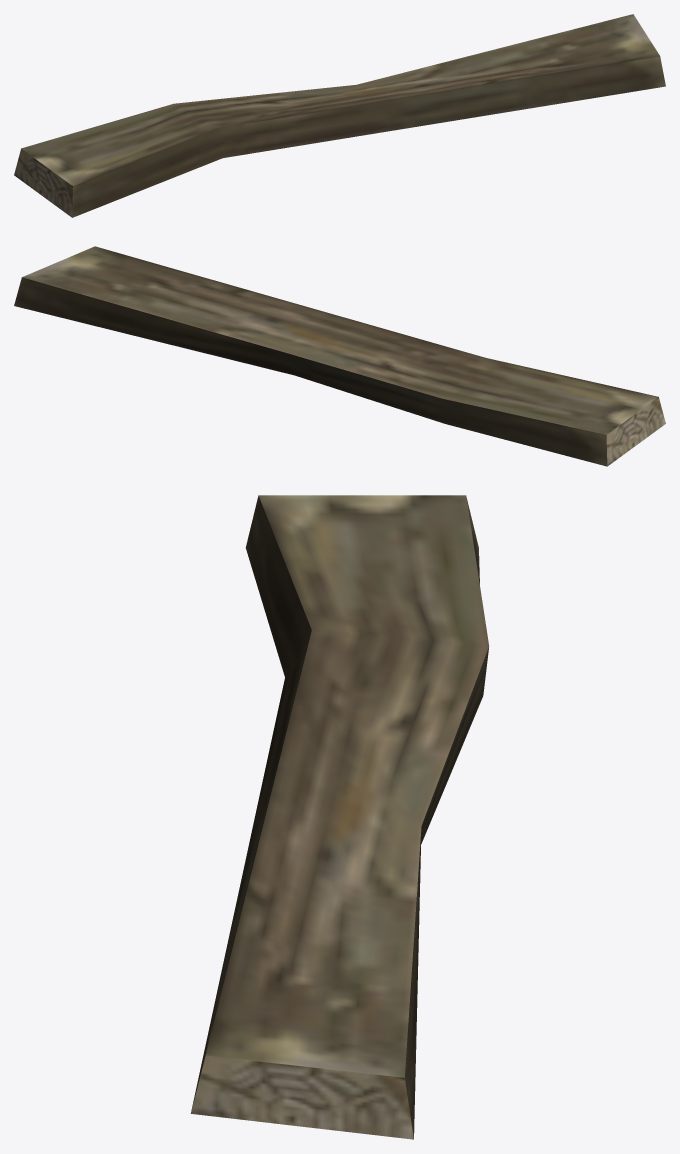
Rendered from DN_lv3_hd_wood08.FBX.
3 renders of one model, top to bottom at view 1: azimuth 30°, elevation 25°; view 2: azimuth 150°, elevation 25°; view 3: azimuth 270°, elevation 25°, orthographic. The views are drawn at different scales.
Parts seen in each view (by area): view 1: DN_lv3_hd_wood08; view 2: DN_lv3_hd_wood08; view 3: DN_lv3_hd_wood08.
Boxes of the visible parts, x1,y1,x2,y2 form: DN_lv3_hd_wood08: [14, 14, 665, 217]; DN_lv3_hd_wood08: [14, 246, 665, 466]; DN_lv3_hd_wood08: [190, 495, 489, 1139].
Size of the model in its own units: 181 by 11.46 by 38.65.
